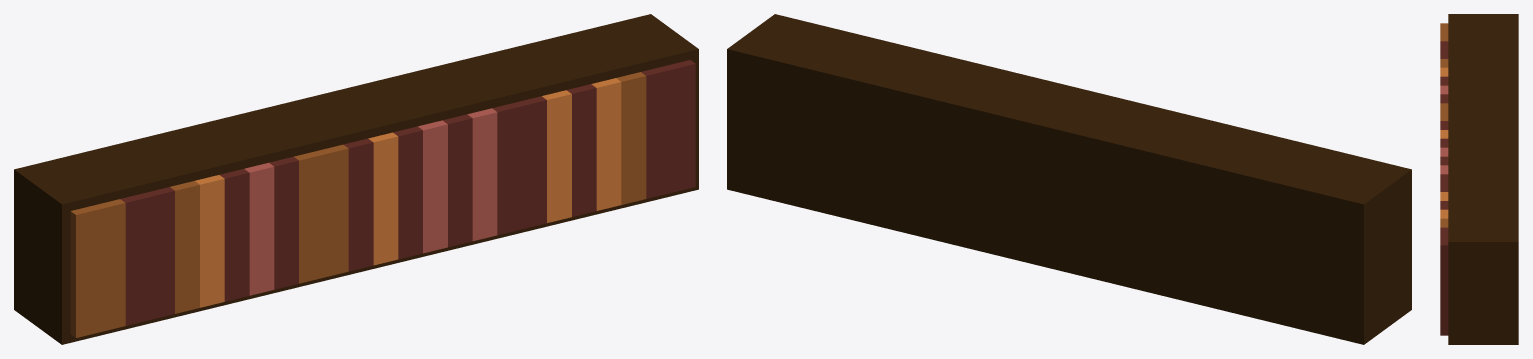
Rendered from bookrow.fbx.
The picture shows the model from 3 angles, left to right: view 1: azimuth 30°, elevation 25°; view 2: azimuth 150°, elevation 25°; view 3: azimuth 270°, elevation 25°; orthographic projection. The views are drawn at different scales.
Visible parts, largest first — view 1: pCube13 (×2); view 2: pCube13 (×2); view 3: pCube13 (×2).
Part boxes in pixels (x1,y1,x2,y2): pCube13 (×2): [14, 14, 698, 344]; pCube13 (×2): [727, 14, 1411, 344]; pCube13 (×2): [1440, 14, 1518, 344].
Bounding box in the file's own units: 22 × 4.64 × 3.19.
